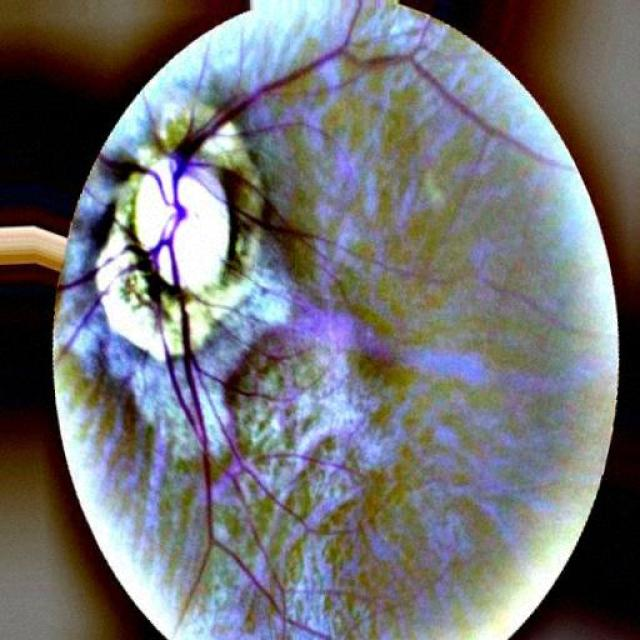Nerves: (165, 236, 328, 639), (165, 39, 570, 196), (144, 236, 201, 438), (61, 233, 135, 301), (200, 168, 287, 225), (103, 154, 176, 213)
Optic Disk: (174, 174, 228, 289), (139, 179, 175, 248)
